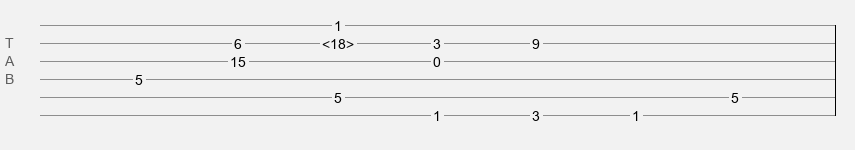0: (433, 54, 441, 64)
1: (334, 18, 342, 28), (433, 108, 441, 118), (632, 108, 640, 118)
15: (230, 54, 246, 64)
3: (433, 36, 441, 46), (532, 108, 540, 118)
5: (135, 72, 143, 82), (334, 90, 342, 100), (731, 90, 739, 100)
6: (234, 36, 242, 46)
9: (532, 36, 540, 46)
harmonic: (322, 36, 354, 46)
